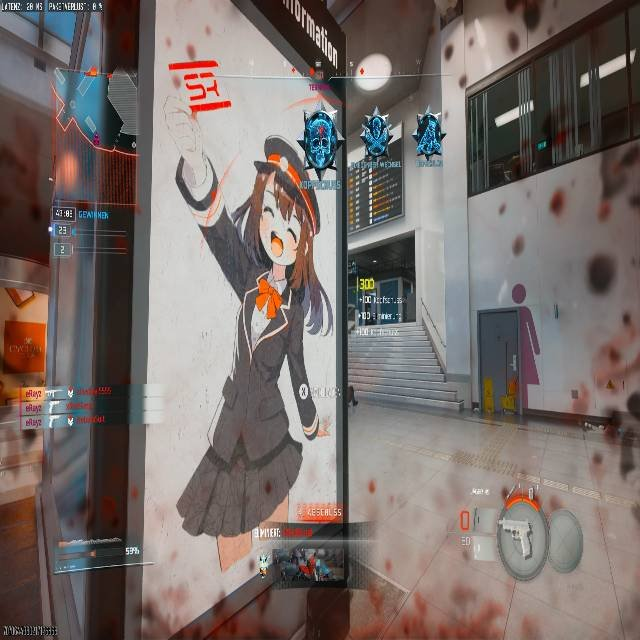player: (282, 0, 544, 179)
